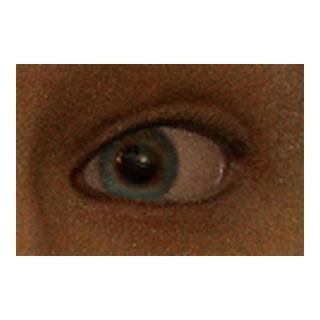pupil: (119, 145, 156, 183)
